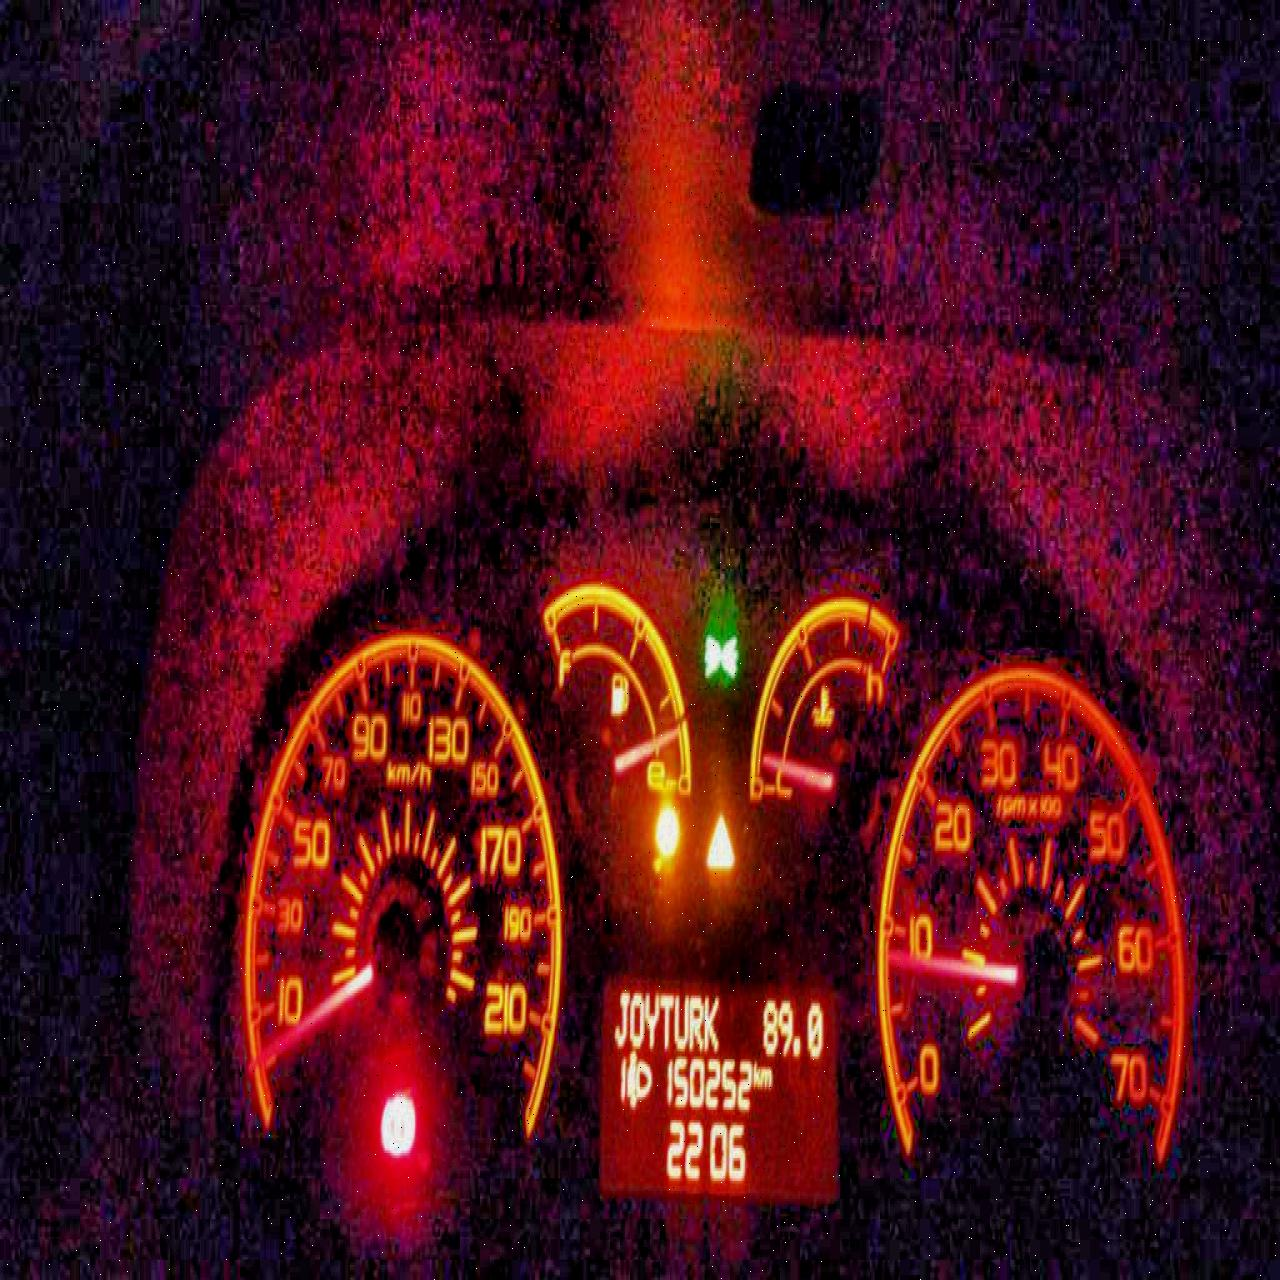-: (791, 1032, 801, 1057)
0: (709, 1117, 727, 1180), (806, 998, 824, 1058), (688, 1054, 703, 1105)
1: (666, 1054, 673, 1108), (619, 1051, 625, 1104)
2: (686, 1117, 703, 1178), (667, 1117, 682, 1176), (736, 1056, 751, 1110), (704, 1056, 720, 1108)
5: (673, 1051, 688, 1108), (720, 1056, 734, 1108)
6: (728, 1121, 747, 1182)
8: (763, 995, 777, 1056)
9: (777, 995, 791, 1056)
X: (673, 990, 688, 1049), (644, 988, 658, 1047), (628, 988, 642, 1047), (613, 988, 627, 1047), (702, 995, 716, 1049), (688, 993, 701, 1049), (660, 988, 670, 1047), (760, 1062, 770, 1088), (753, 1054, 758, 1087)
odometer: (595, 967, 840, 1204)
